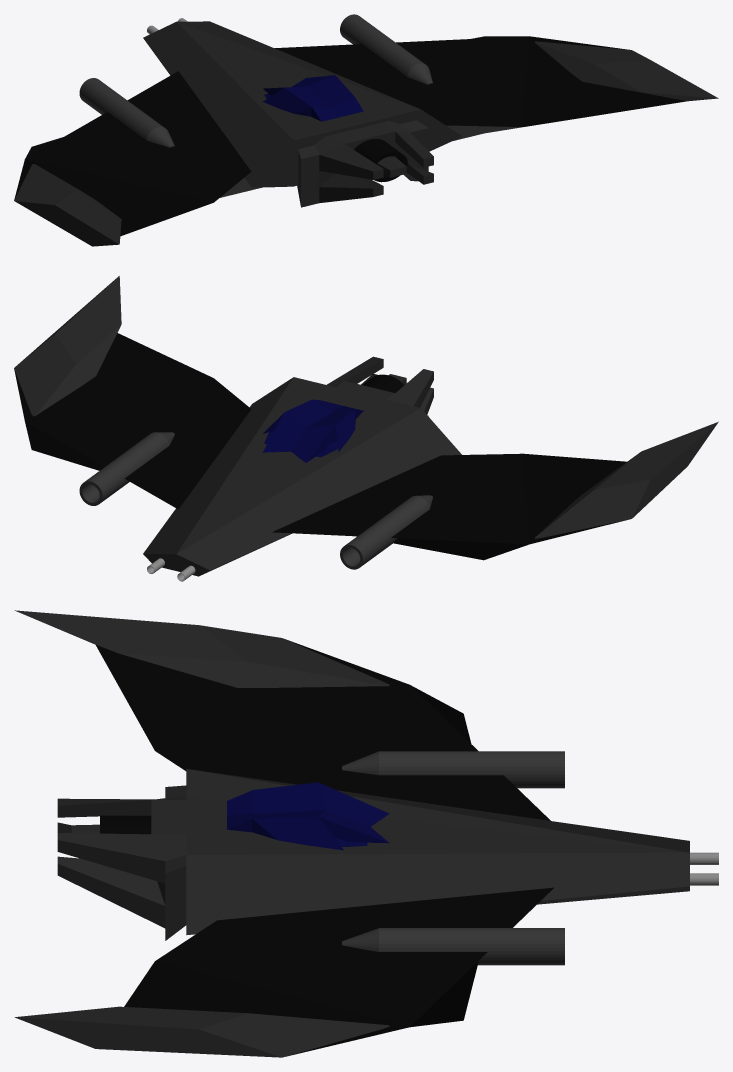
File: PlayerShip2.glb
3 renders of one model, top to bottom at view 1: azimuth 30°, elevation 25°; view 2: azimuth 150°, elevation 25°; view 3: azimuth 270°, elevation 25°, orthographic. The views are drawn at different scales.
Visible parts, largest first — view 1: Wings, Body, Engine, Missile_launcher, Cabin, Engine_shield; view 2: Wings, Body, Missile_launcher, Cabin, Engine, Engine_shield; view 3: Wings, Body, Engine, Missile_launcher, Cabin, Engine_shield, Guns.
Part boxes in pixels (x1,y1,x2,y2): Wings: (14,36,718,246); Body: (143,21,462,187); Engine: (297,120,433,207); Missile_launcher: (79,14,432,147); Cabin: (263,75,363,121); Engine_shield: (354,139,407,182); Wings: (14,276,718,560); Body: (143,377,461,576); Missile_launcher: (79,432,432,569); Cabin: (262,399,363,462); Engine: (327,356,433,416); Engine_shield: (362,374,404,392); Wings: (14,610,553,1057); Body: (186,768,689,935); Engine: (57,785,186,940); Missile_launcher: (342,751,564,965); Cabin: (227,782,389,850); Engine_shield: (100,815,151,834); Guns: (690,852,718,885).
Bounding box in the file's own units: 16 × 1.75 × 11.36.
Materials: 2 (2 with a texture image).
